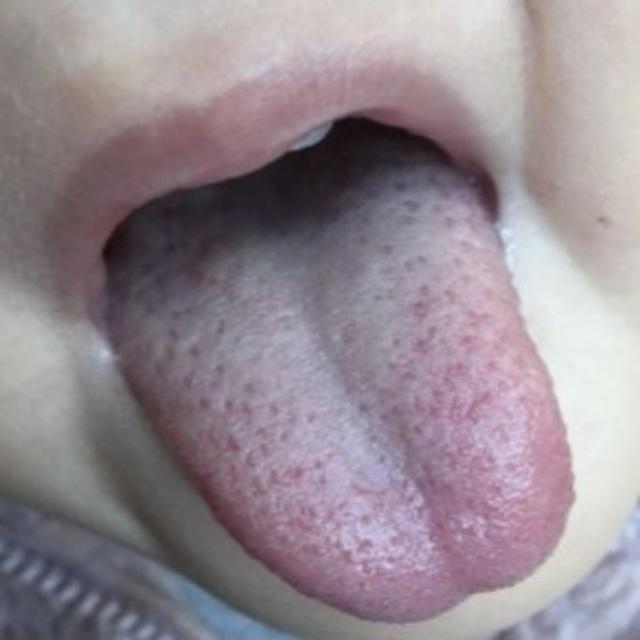baitaishe: (115, 195, 579, 626)
